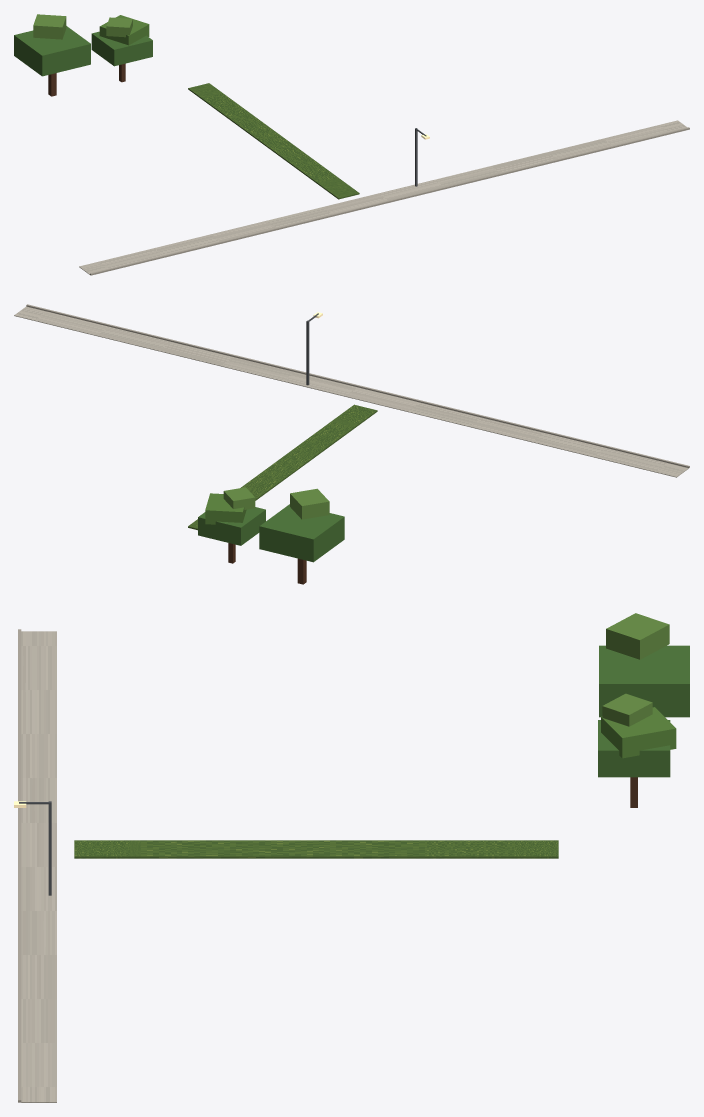
The model's file is structure.glb.
The picture shows the model from 3 angles, top to bottom: view 1: azimuth 30°, elevation 25°; view 2: azimuth 150°, elevation 25°; view 3: azimuth 270°, elevation 25°; orthographic projection. The views are drawn at different scales.
Visible parts, largest first — view 1: Box14, Box7, Box5, Box13, Box10, Box8, Box2, Box11, Box12, Box3; view 2: Box14, Box7, Box5, Box13, Box10, Box8, Box11, Box12, Box3; view 3: Box14, Box5, Box7, Box11, Box10, Box8, Box13, Box2, Box12, Box3, Box1.
Boxes of the visible parts, bbox=[...] form: Box14: bbox=[79, 120, 687, 274]; Box7: bbox=[14, 26, 90, 76]; Box5: bbox=[229, 113, 338, 183]; Box13: bbox=[90, 127, 689, 275]; Box10: bbox=[91, 31, 152, 66]; Box8: bbox=[33, 14, 66, 39]; Box2: bbox=[202, 93, 250, 119]; Box11: bbox=[99, 15, 149, 45]; Box12: bbox=[106, 17, 132, 37]; Box3: bbox=[321, 180, 359, 199]; Box14: bbox=[14, 306, 688, 477]; Box7: bbox=[259, 504, 344, 562]; Box5: bbox=[241, 421, 354, 499]; Box13: bbox=[26, 304, 689, 467]; Box10: bbox=[198, 507, 265, 545]; Box8: bbox=[290, 488, 329, 519]; Box11: bbox=[205, 493, 246, 524]; Box12: bbox=[223, 487, 255, 509]; Box3: bbox=[335, 404, 377, 425]; Box14: bbox=[21, 631, 56, 1102]; Box5: bbox=[141, 840, 424, 858]; Box7: bbox=[599, 645, 689, 717]; Box11: bbox=[601, 707, 676, 758]; Box10: bbox=[598, 720, 670, 777]; Box8: bbox=[606, 613, 669, 659]; Box13: bbox=[18, 629, 21, 1102]; Box2: bbox=[425, 840, 513, 858]; Box12: bbox=[602, 693, 652, 726]; Box3: bbox=[74, 840, 129, 858]; Box1: bbox=[514, 840, 558, 858].
Size of the model in its own units: 50 by 6.25 by 30.34.
Materials: 9 (2 with a texture image).
